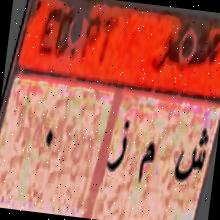0: (39, 119, 60, 162)
meem: (132, 130, 157, 200)
sheen: (170, 121, 210, 195)
zay: (102, 111, 133, 184)
